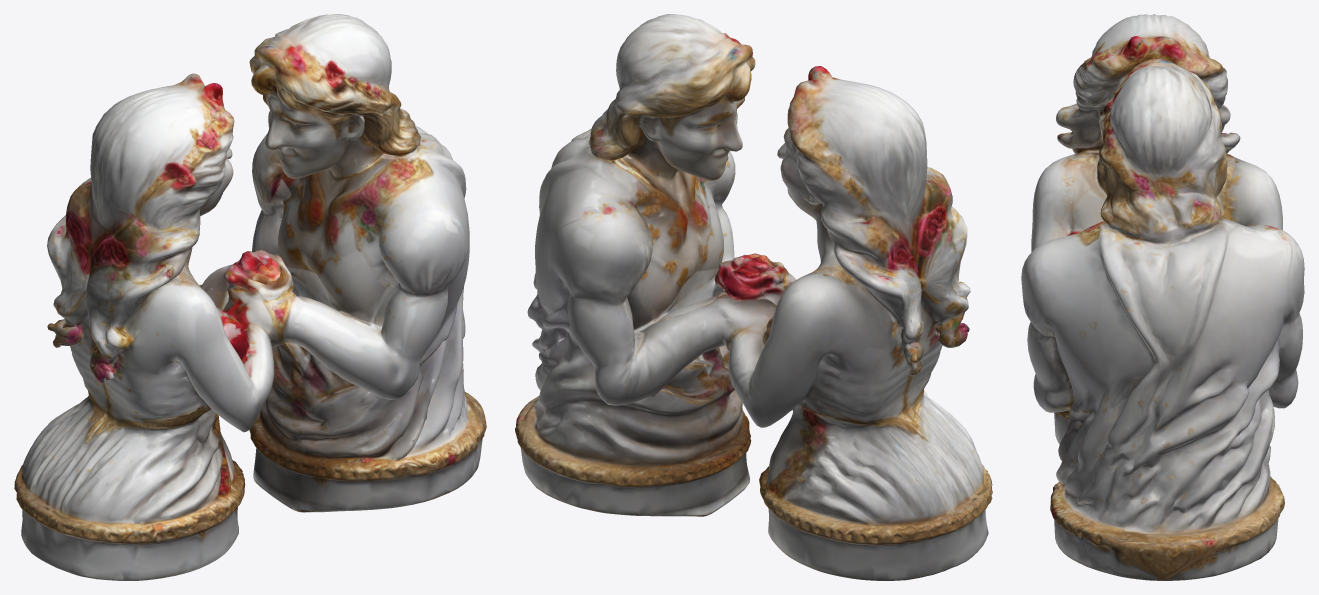
Rendered from Love_Hearts_2_0214001536_texture.fbx.
3 views of the same model, side by side, from view 1: azimuth 30°, elevation 25°; view 2: azimuth 150°, elevation 25°; view 3: azimuth 270°, elevation 25° (orthographic). The views are drawn at different scales.
Visible parts, largest first — view 1: tmp7c61px2z.ply; view 2: tmp7c61px2z.ply; view 3: tmp7c61px2z.ply.
Boxes of the visible parts, <box> form: tmp7c61px2z.ply: <box>14,14,486,580</box>; tmp7c61px2z.ply: <box>515,14,992,580</box>; tmp7c61px2z.ply: <box>1021,14,1304,580</box>.
Size of the model in its own units: 199 by 200 by 113.
1 material, 1 textured.
